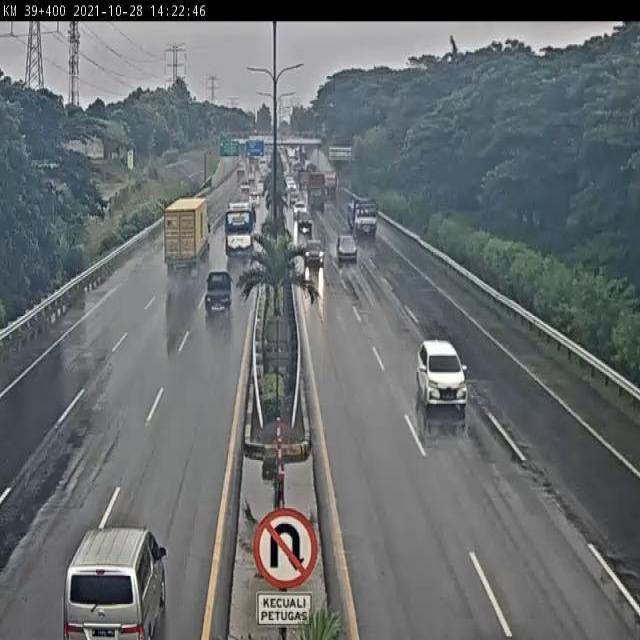bus-l-: (224, 198, 258, 254)
car: (203, 268, 233, 309)
truck-xl-: (164, 194, 210, 270)
